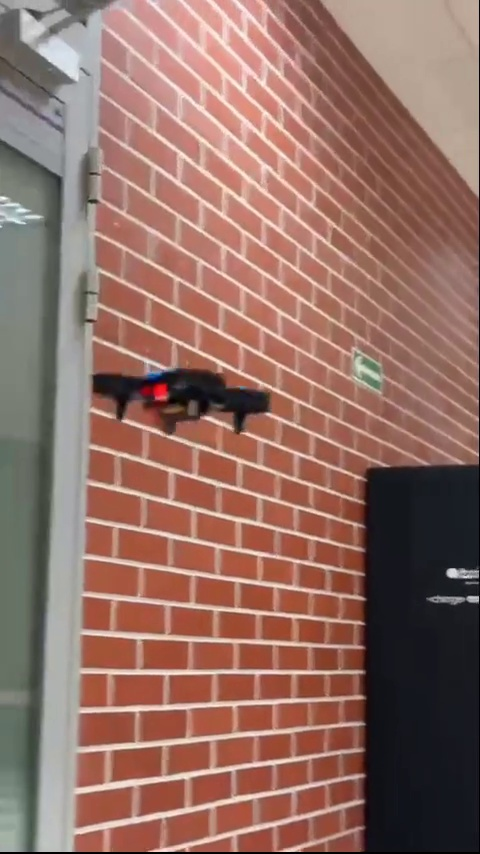drone: (90, 360, 276, 431)
